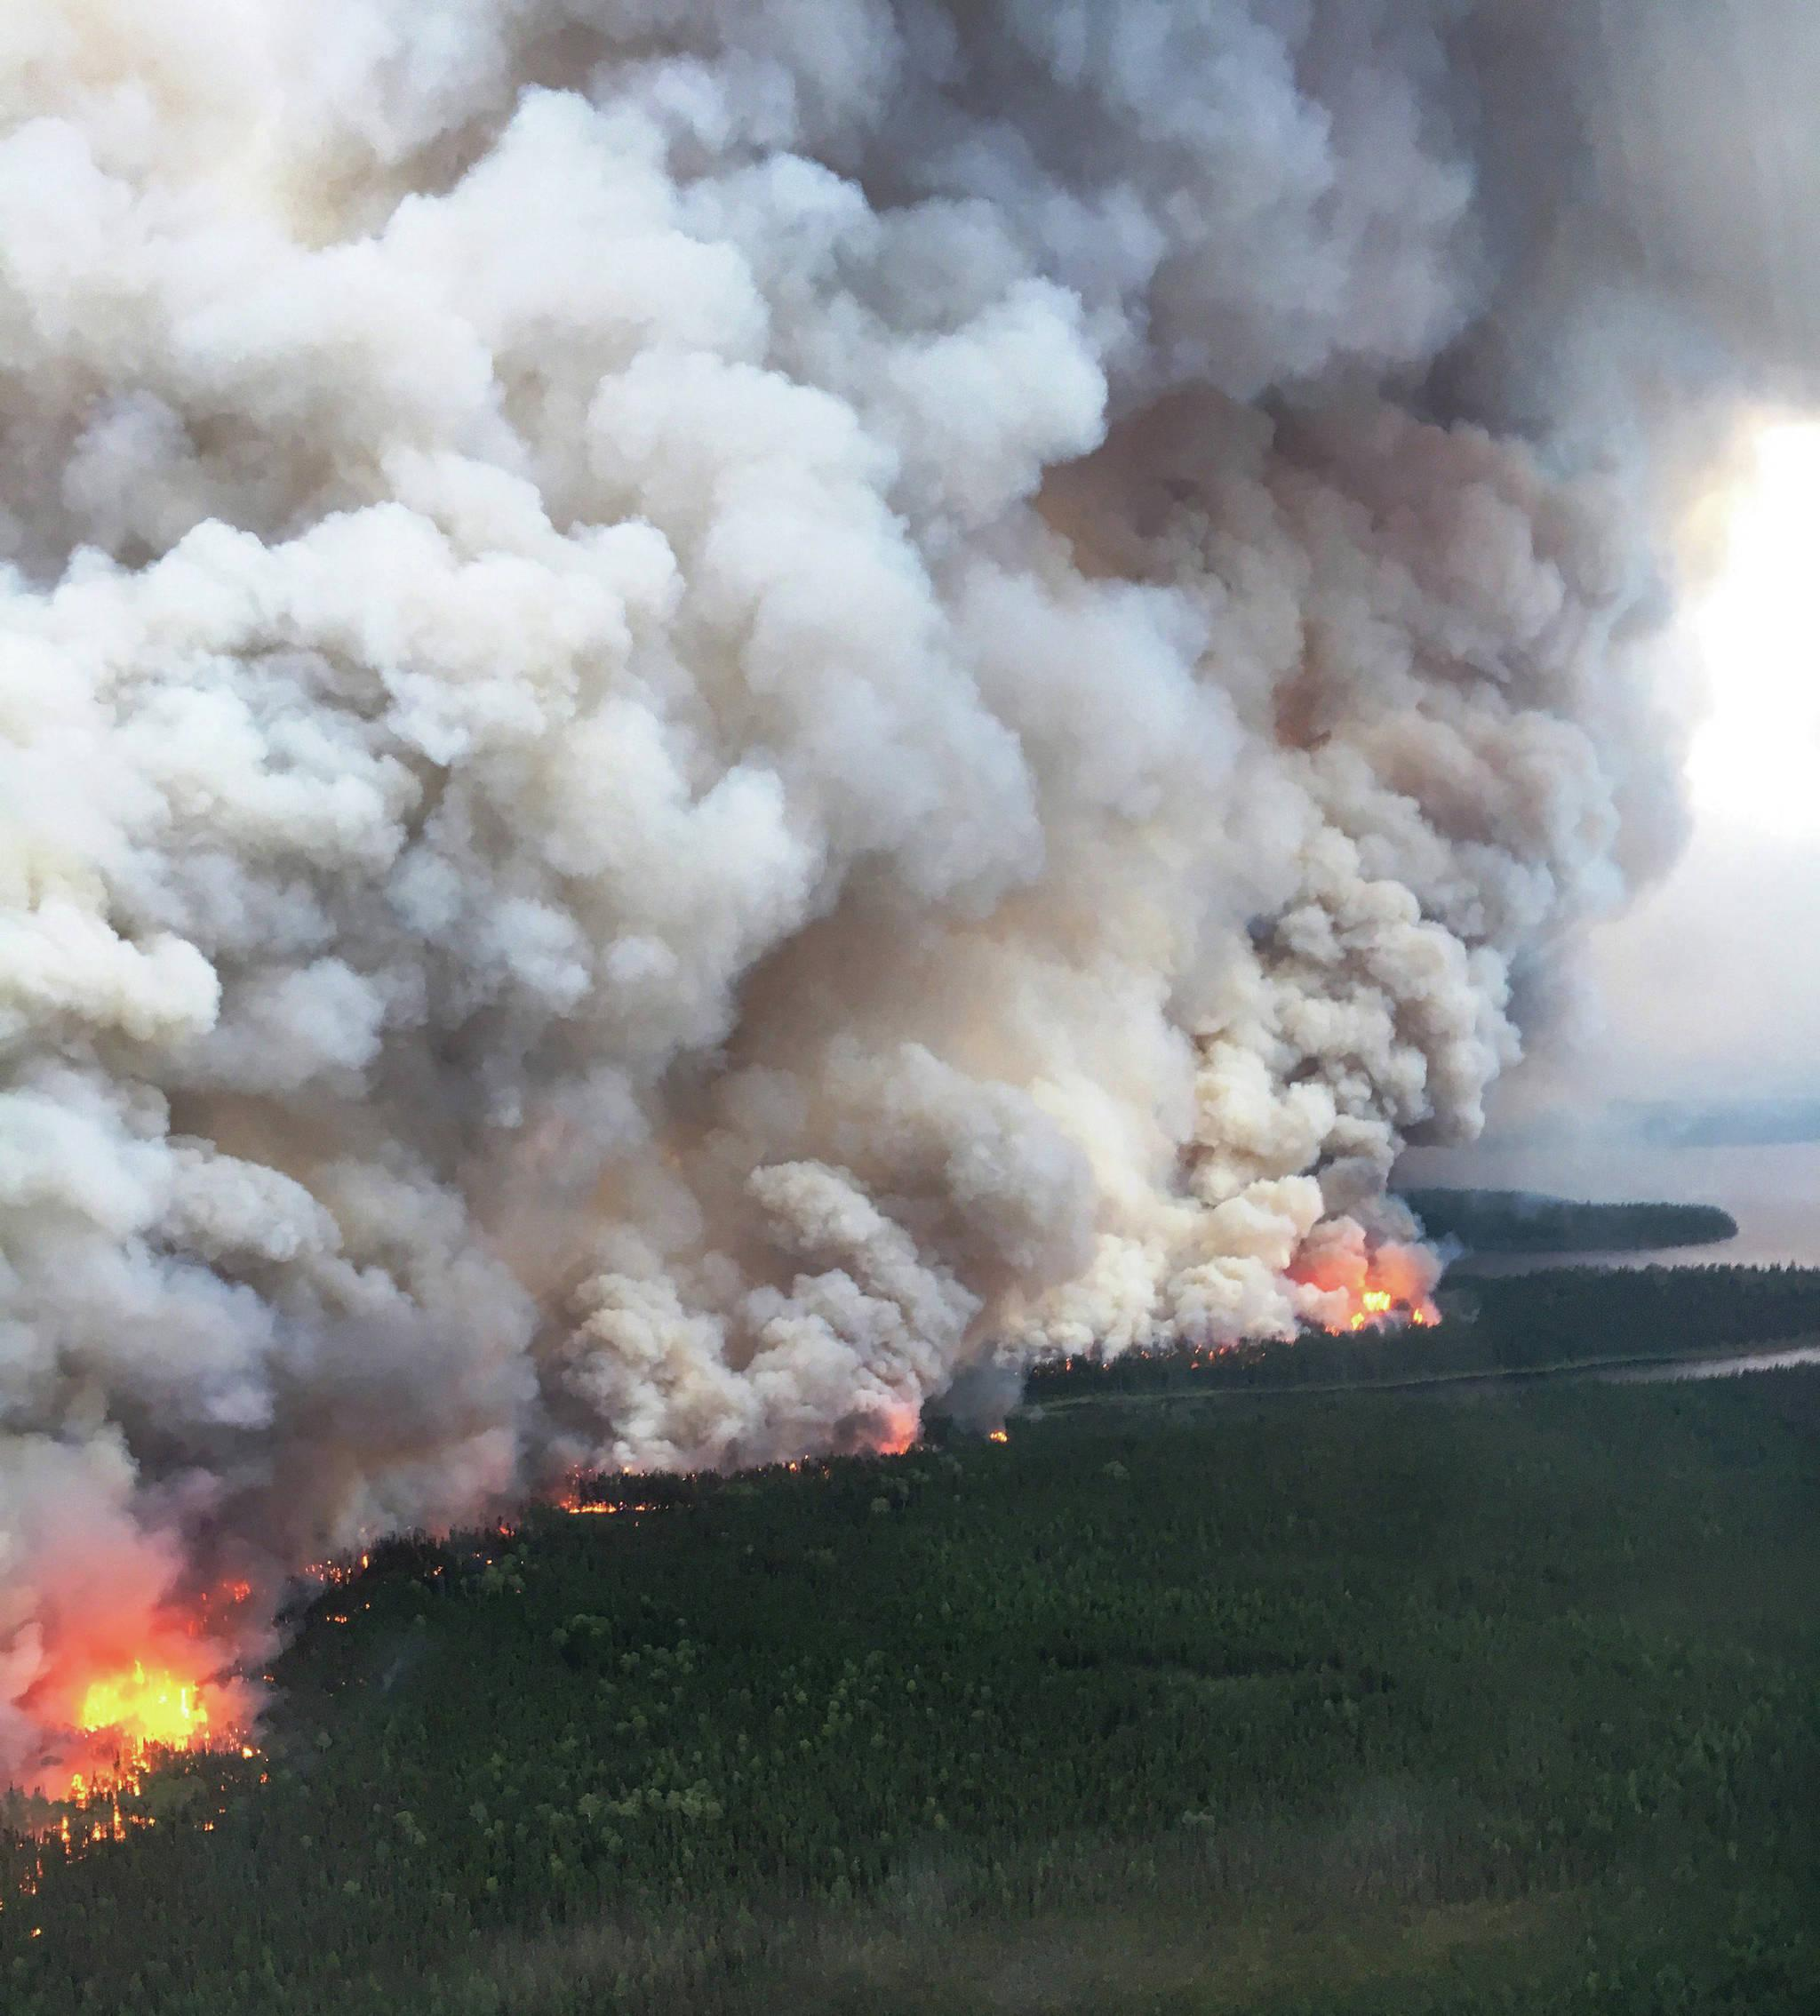smoke: (12, 16, 1778, 1761)
